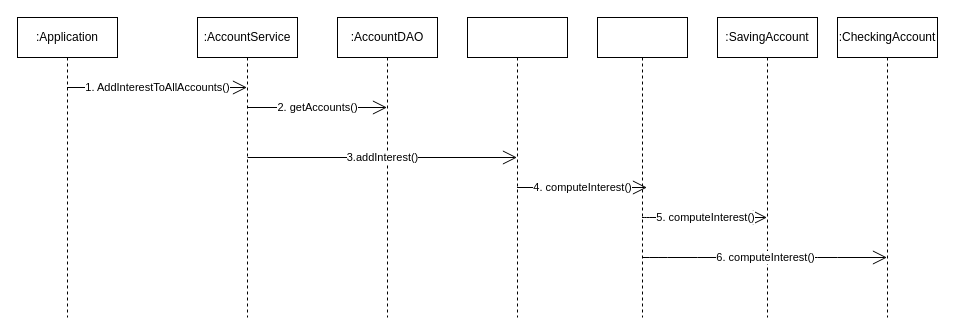
Some shapes in this 955 by 335 pixel diagram are drawn without their labels. Each missing label, with the box of its shape:
:Account: (466, 16, 568, 318)
:AccountType (Strategy): (596, 16, 688, 318)
